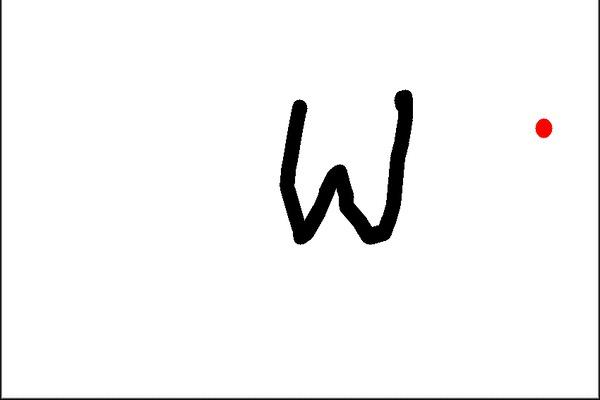w: (260, 70, 422, 257)
